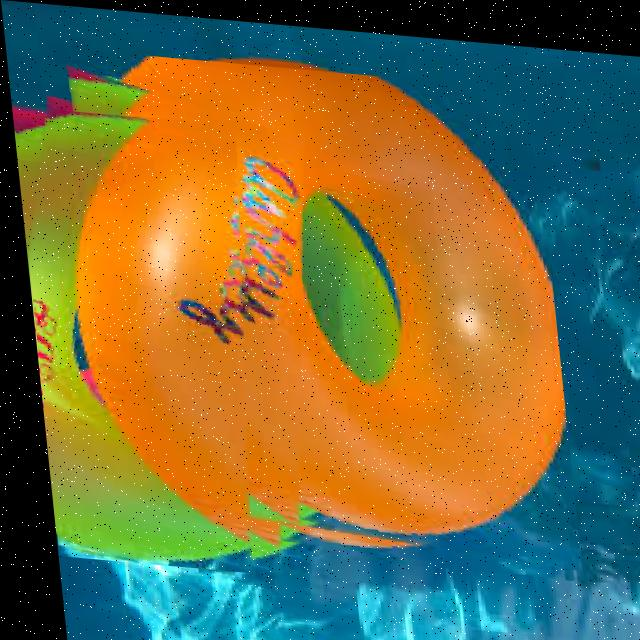lifesaver: (77, 54, 558, 542), (22, 114, 245, 563)
